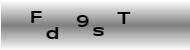9: (75, 14, 90, 27)
F: (30, 10, 42, 23)
T: (116, 11, 131, 25)
d: (45, 26, 58, 40)
s: (91, 25, 104, 37)
